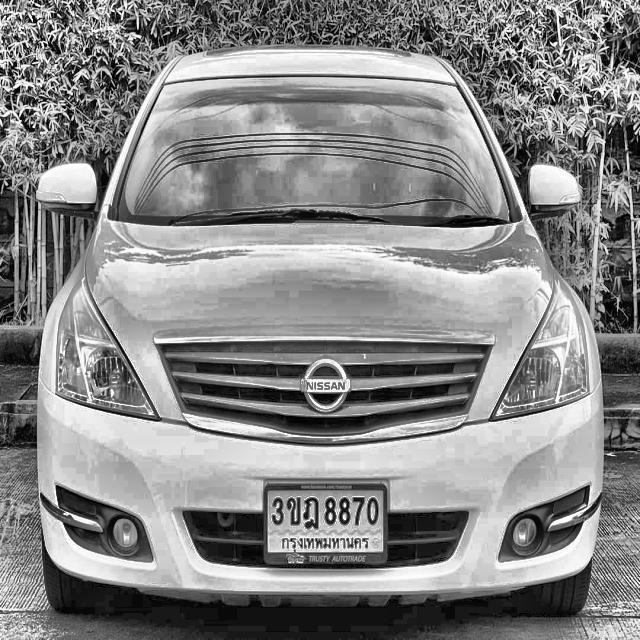license-plate: (261, 477, 391, 567)
